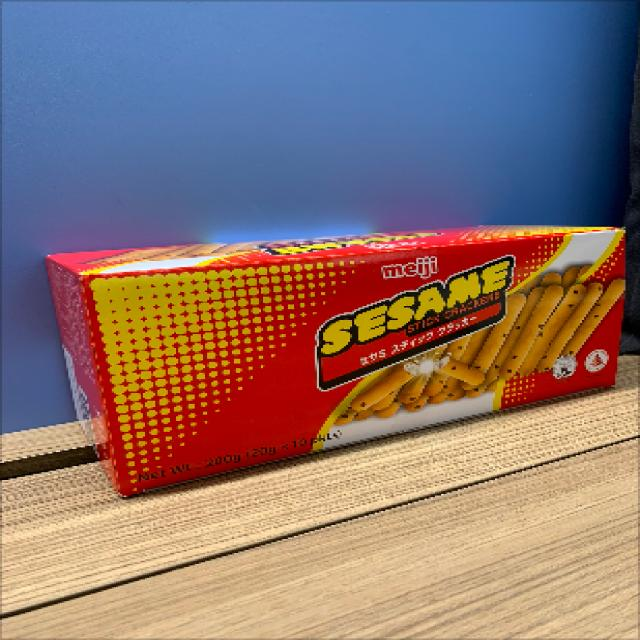object_name: (65, 255, 621, 405)
